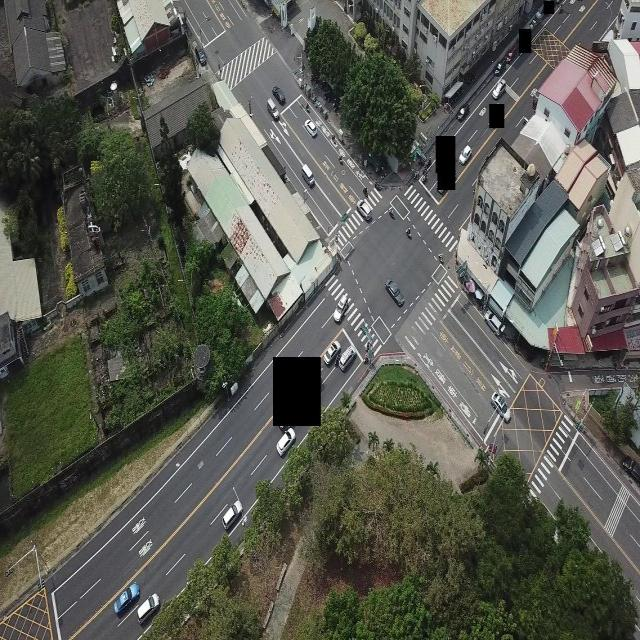bike: (388, 209, 397, 222), (437, 251, 444, 265), (405, 225, 412, 238), (362, 185, 368, 199), (304, 102, 310, 114), (329, 133, 336, 143), (338, 154, 343, 166)
car: (112, 581, 140, 616), (138, 592, 160, 625), (222, 500, 244, 531), (276, 426, 296, 458), (491, 391, 510, 424), (484, 310, 505, 337), (269, 83, 285, 116), (386, 278, 403, 307), (338, 345, 356, 372), (322, 338, 339, 366), (333, 293, 349, 322), (490, 76, 506, 100), (356, 197, 372, 221), (300, 163, 315, 187), (458, 143, 472, 166), (492, 57, 507, 76), (305, 118, 318, 138), (456, 101, 469, 121), (195, 46, 206, 66)
